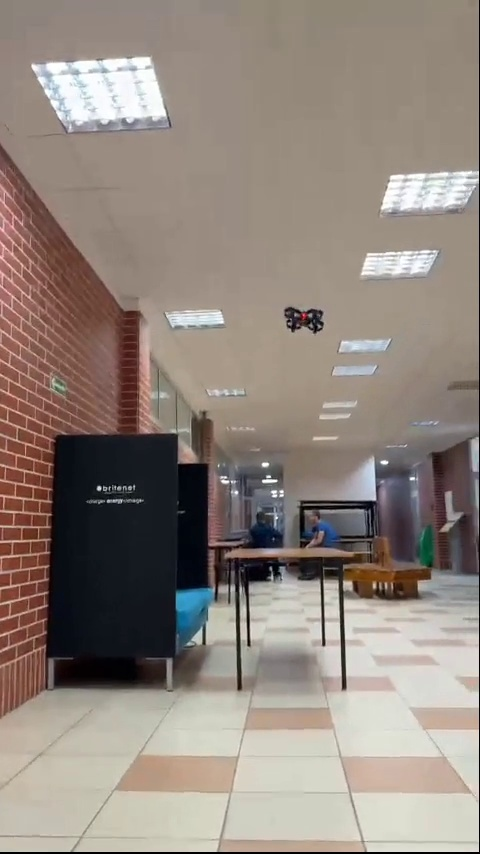drone: (282, 310, 326, 332)
no vest: (301, 503, 337, 544), (254, 509, 280, 544)
